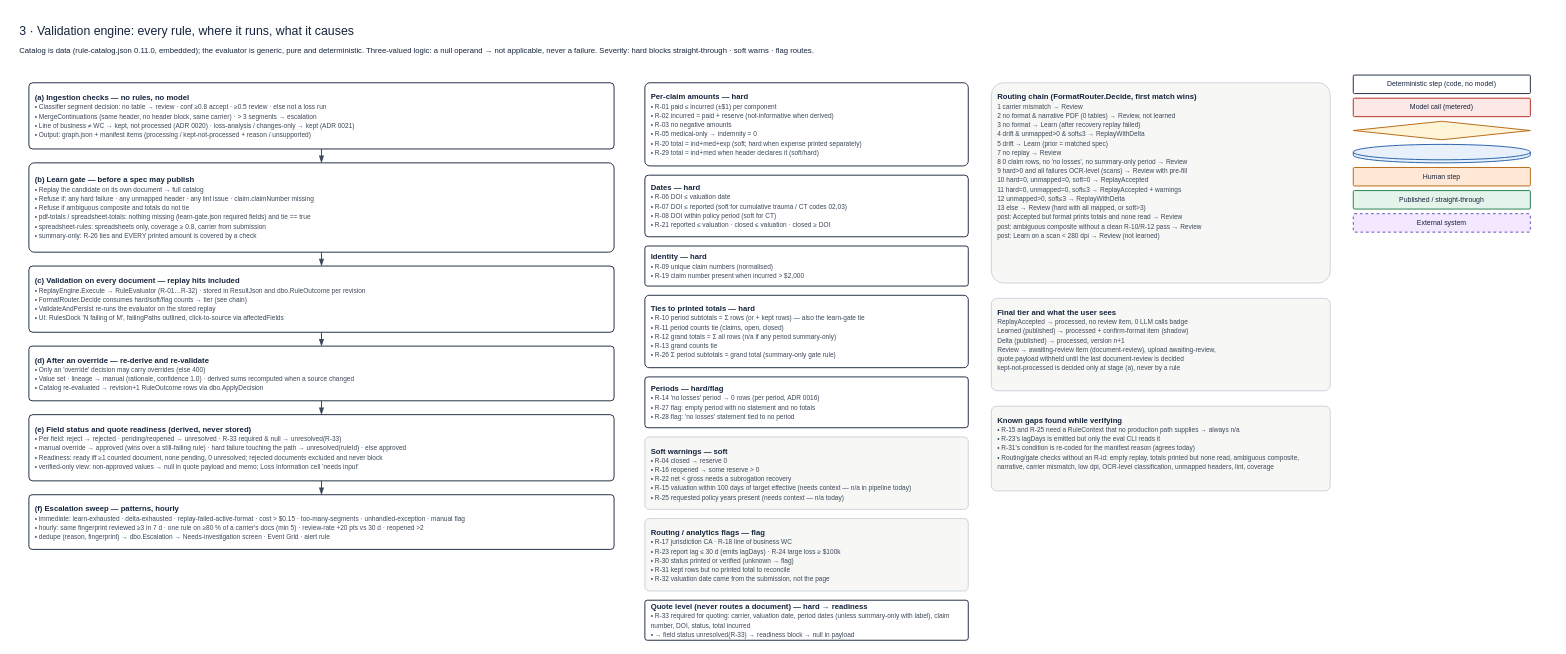
Some shapes in this 1566 by 654 pixel diagram are drawn without their labels. The shapes that lost their labels are listed below. From the top down, each one's centre as x and y in pixels, then its label:
point 1441,130: Decision
point 1441,153: Store (SQL · Blob · index)
